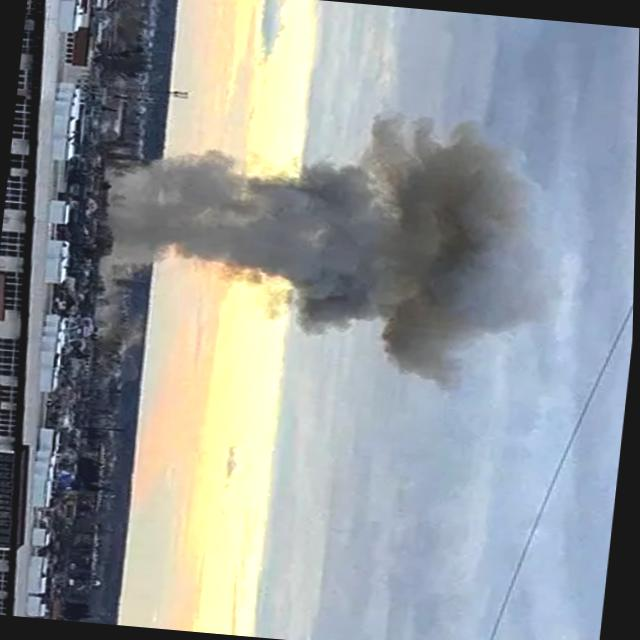Smoke: (90, 83, 569, 397)
